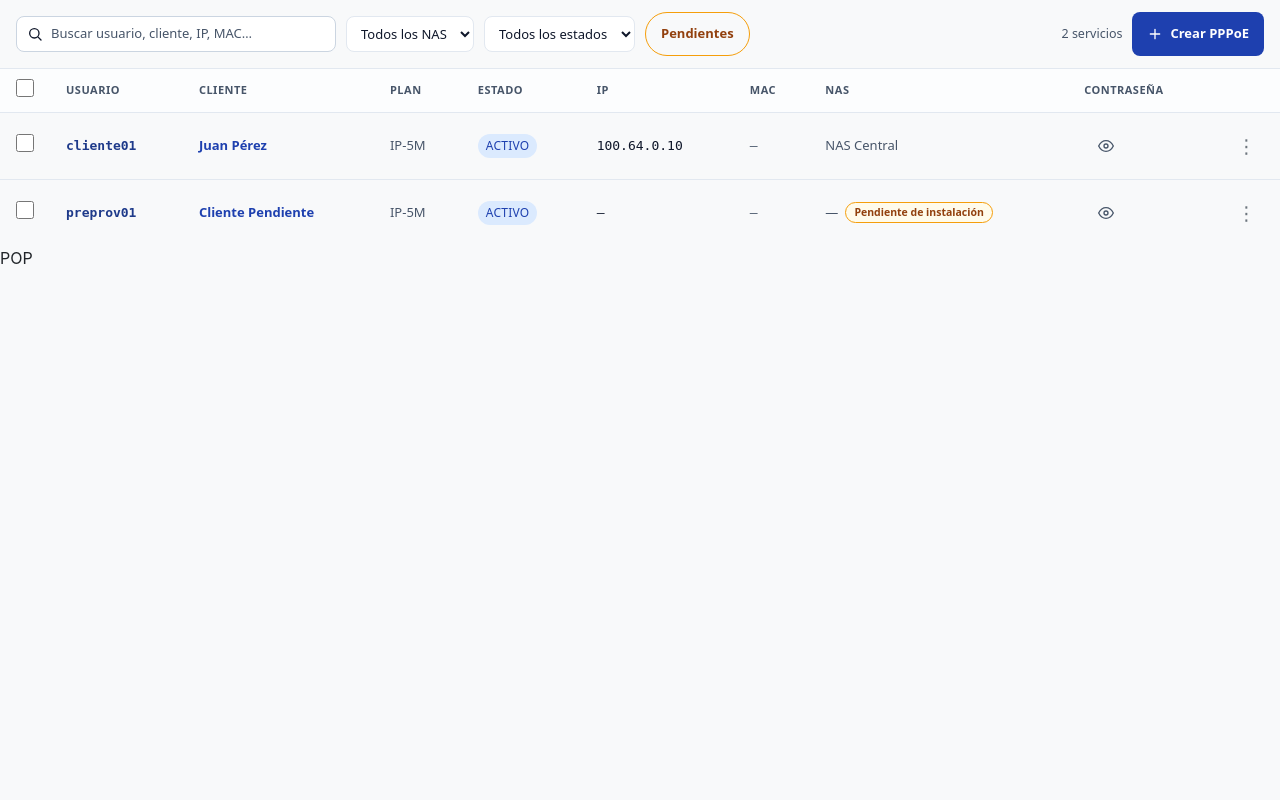
S5.2 (modal crear): "Sin router — auto-instalación" › elegirla oculta los campos de IP y muestra el hint de auto-instalación
Click the button "Crear PPPoE".
click(1198, 34)  # box [1132,12,1264,56]
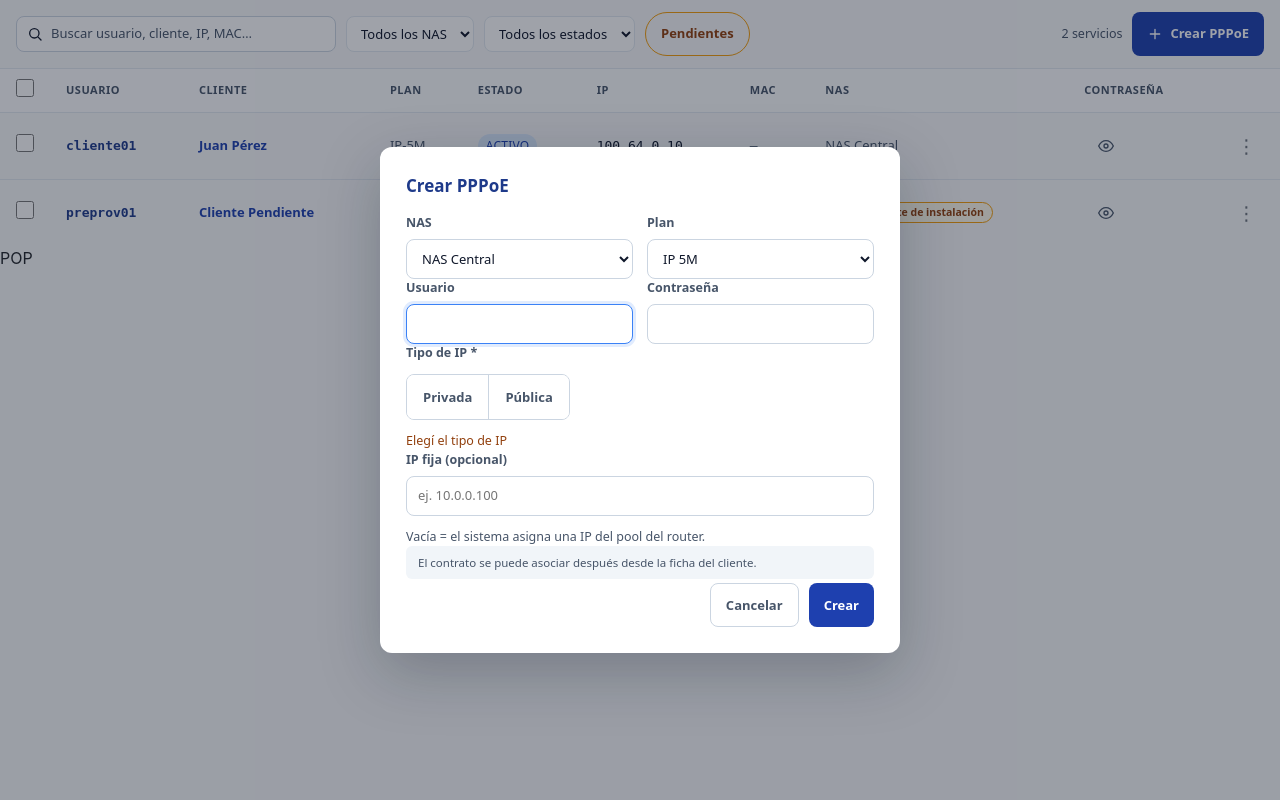
Select "Sin router — auto-instalación" in the dropdown labelled "NAS" at (520, 259), box [406,239,633,279]
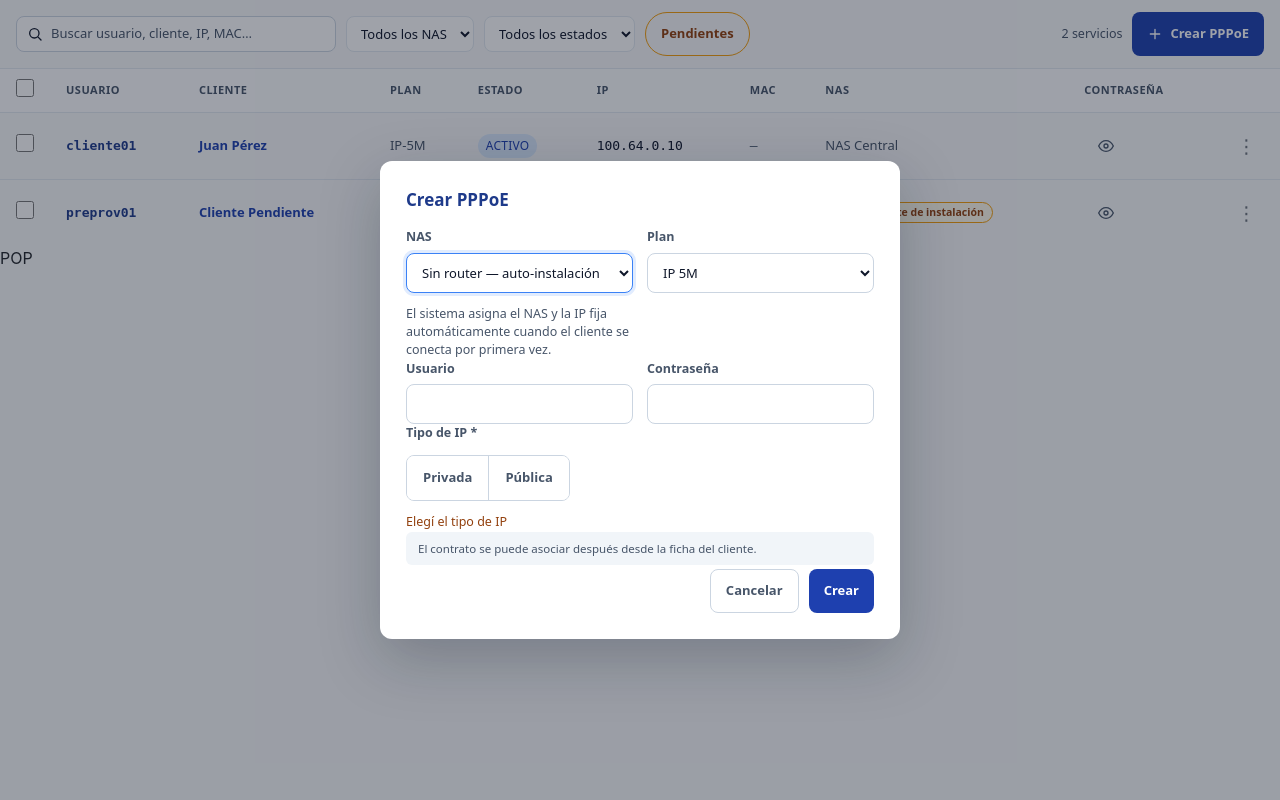
Result: the text "El sistema asigna el NAS y la IP fija automáticamente cuando el cliente se conecta por primera vez" is shown at [406,305,629,358]
